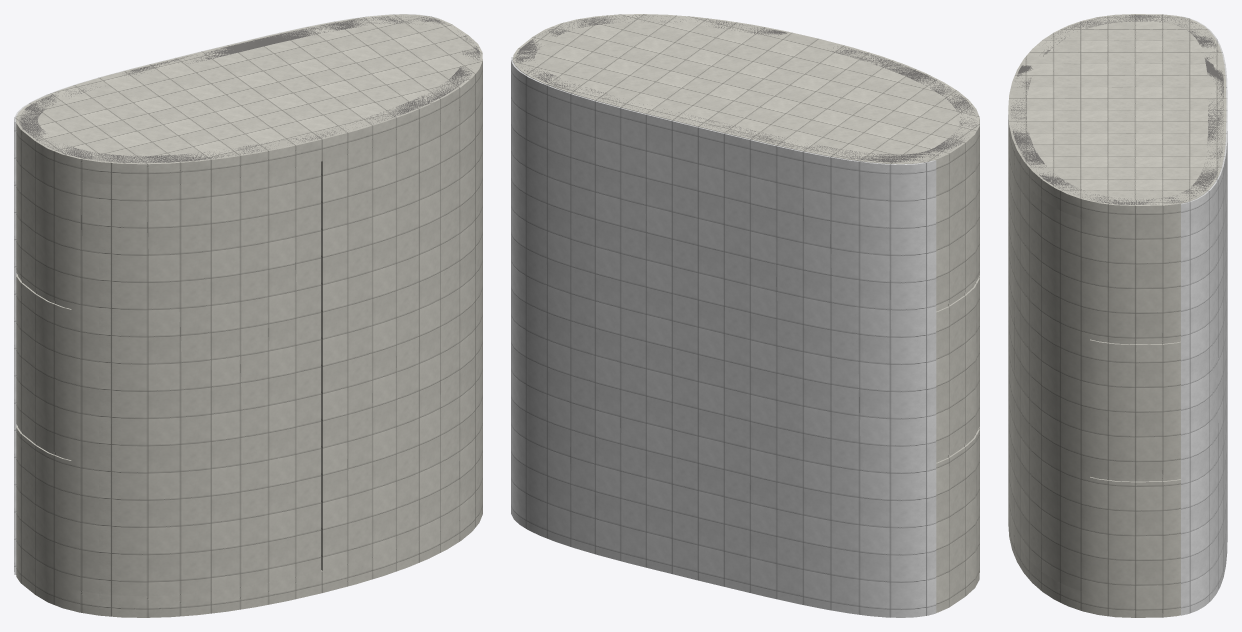
File: ax_aero_09_fs2c_cargo_bay.glb
3 views of the same model, side by side, from view 1: azimuth 30°, elevation 25°; view 2: azimuth 150°, elevation 25°; view 3: azimuth 270°, elevation 25° (orthographic). The views are drawn at different scales.
Visible parts, largest first — view 1: door_r, fuselage, door_l, end_frames, belly_tiles; view 2: belly_tiles, fuselage, end_frames; view 3: fuselage, door_l, belly_tiles, end_frames.
Boxes of the visible parts, box(x1,y1,x2,y2) form: door_r: box(71, 161, 320, 596); fuselage: box(16, 14, 482, 617); door_l: box(321, 82, 482, 570); end_frames: box(19, 16, 480, 163); belly_tiles: box(14, 14, 439, 574); belly_tiles: box(511, 57, 936, 617); fuselage: box(513, 14, 979, 612); end_frames: box(515, 15, 976, 162); fuselage: box(1008, 14, 1226, 617); door_l: box(1008, 135, 1089, 593); belly_tiles: box(1181, 16, 1227, 615); end_frames: box(1010, 15, 1223, 204).
Size of the model in its own units: 2.5 by 2.5 by 1.21.
Materials: 3 (3 with a texture image).
